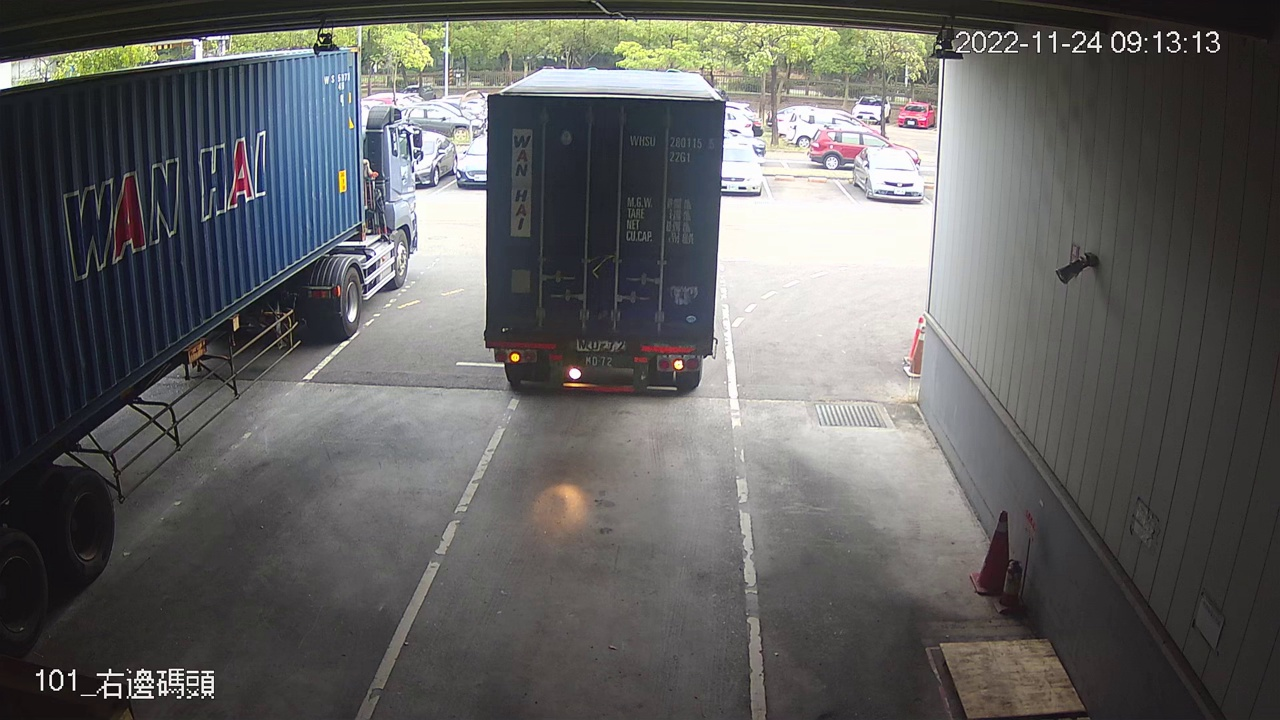container: (626, 129, 718, 167)
